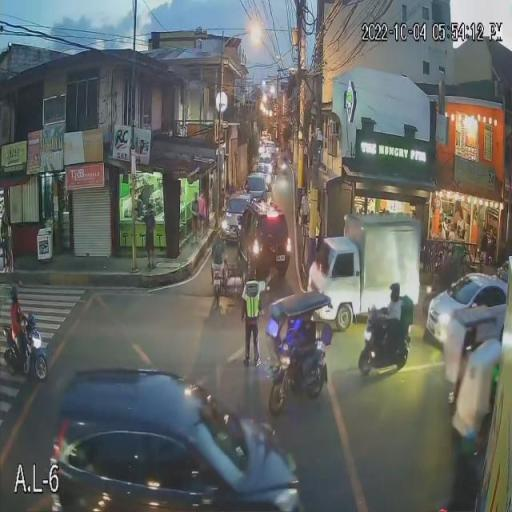helmet: (8, 286, 22, 306), (389, 282, 401, 296)
motorcycle: (358, 304, 411, 378), (4, 312, 50, 382)
rider: (378, 282, 415, 360), (8, 283, 30, 359)
